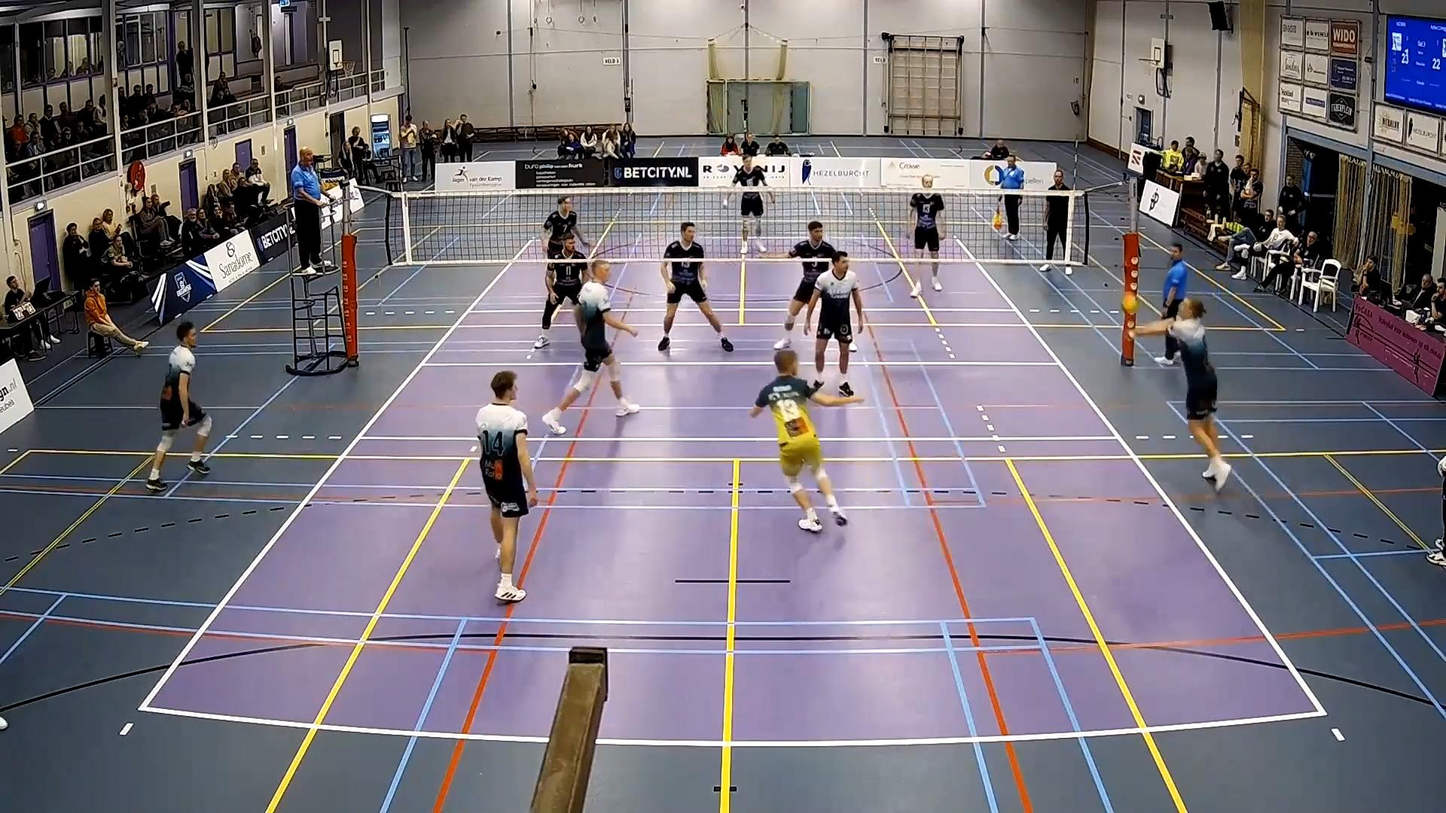Player: (750, 349, 862, 532), (542, 260, 639, 434), (476, 370, 537, 602), (146, 321, 212, 492), (657, 222, 734, 352), (804, 251, 863, 396), (774, 221, 836, 349), (533, 233, 587, 349), (909, 175, 944, 291), (732, 155, 766, 254), (541, 196, 587, 255)
Set: (1129, 297, 1232, 490)
ball: (1120, 295, 1145, 313)
